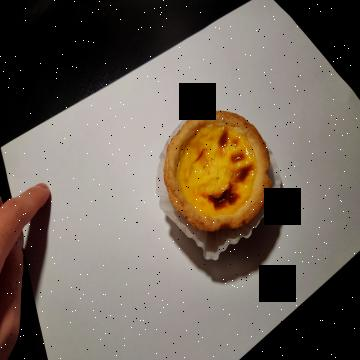EggTart: (164, 110, 273, 228)
